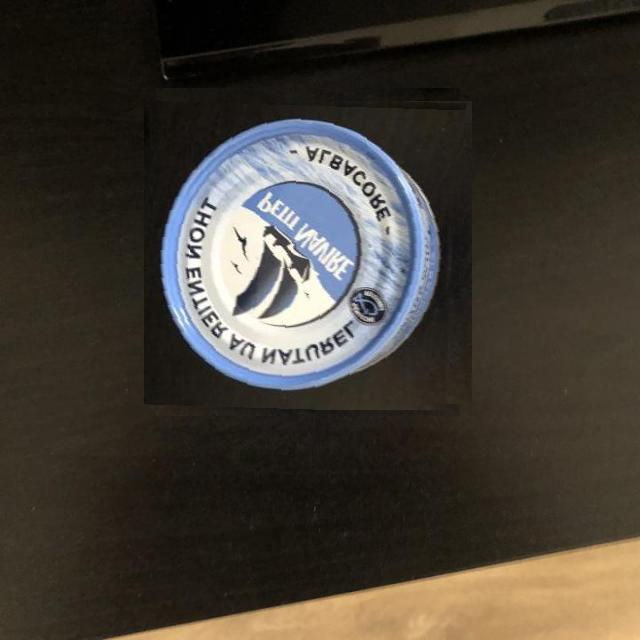recyclable: (150, 94, 467, 410)
